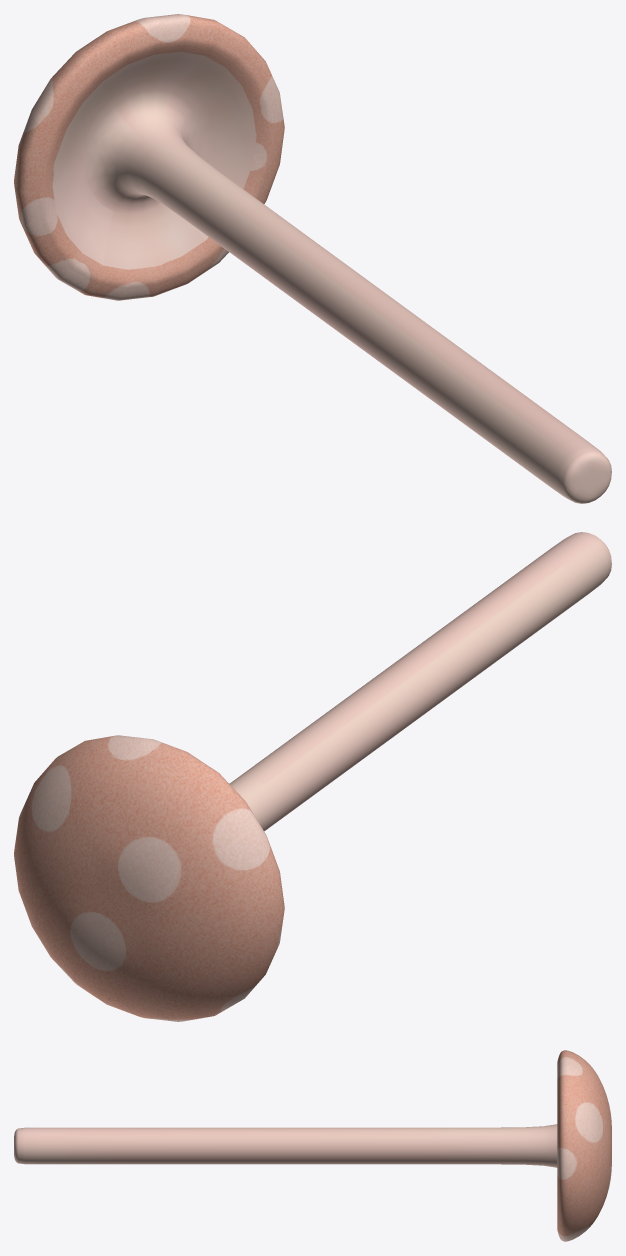
Rendered from MushLarge.FBX.
3 views of the same model, one above another, from view 1: azimuth 30°, elevation 25°; view 2: azimuth 150°, elevation 25°; view 3: azimuth 270°, elevation 25° (orthographic). The views are drawn at different scales.
Visible parts, largest first — view 1: HashimotoPeachCastle000_BalPiller010__Mountain02; view 2: HashimotoPeachCastle000_BalPiller010__Mountain02; view 3: HashimotoPeachCastle000_BalPiller010__Mountain02.
Part boxes in pixels (bbox=[...]): HashimotoPeachCastle000_BalPiller010__Mountain02: bbox=[14, 14, 611, 503]; HashimotoPeachCastle000_BalPiller010__Mountain02: bbox=[14, 532, 611, 1021]; HashimotoPeachCastle000_BalPiller010__Mountain02: bbox=[14, 1050, 611, 1241].
Bounding box in the file's own units: 1710 × 1701 × 5326.
